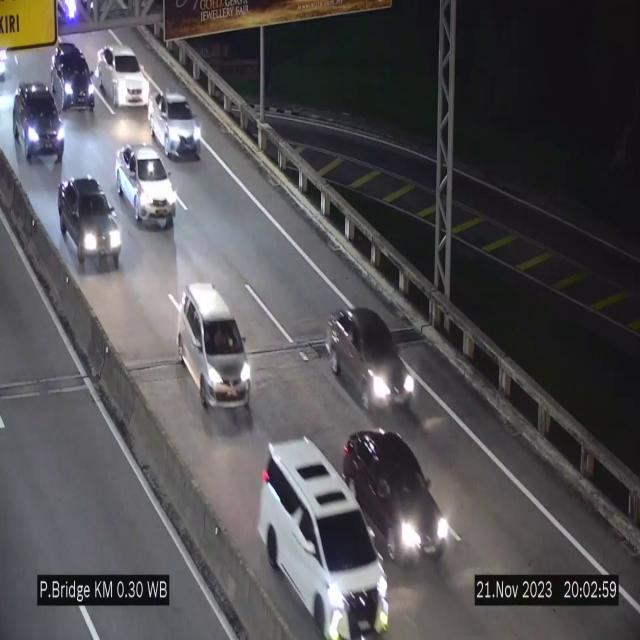Car: (259, 440, 387, 640), (340, 422, 444, 558), (173, 279, 254, 416), (327, 304, 415, 416), (55, 176, 122, 264), (116, 145, 176, 227), (12, 78, 67, 167), (49, 41, 97, 118), (98, 45, 152, 112), (150, 89, 202, 158)
